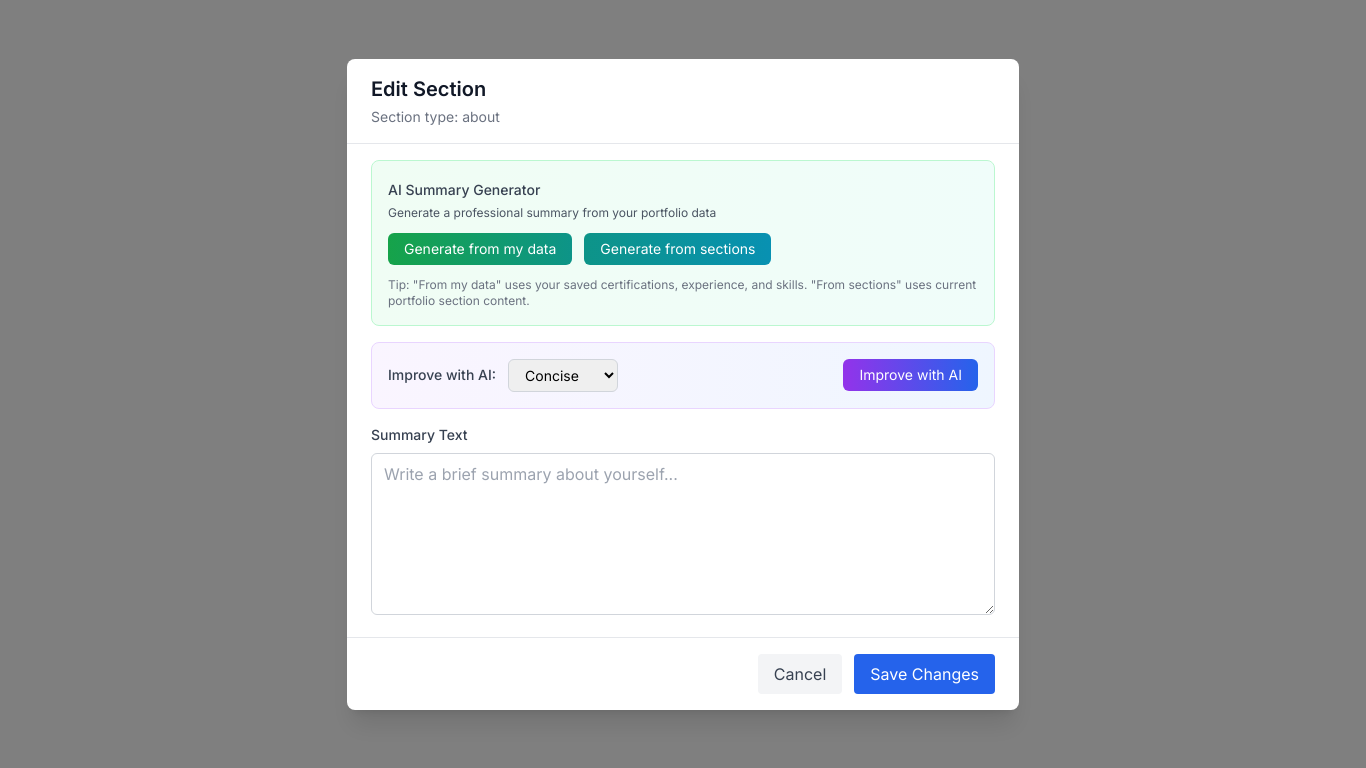
SectionEditor › save and cancel › should show saving state while saving
The width and height of the screenshot is (1366, 768).
Click the button "Save Changes": (925, 674) left=854, top=654, right=995, bottom=694
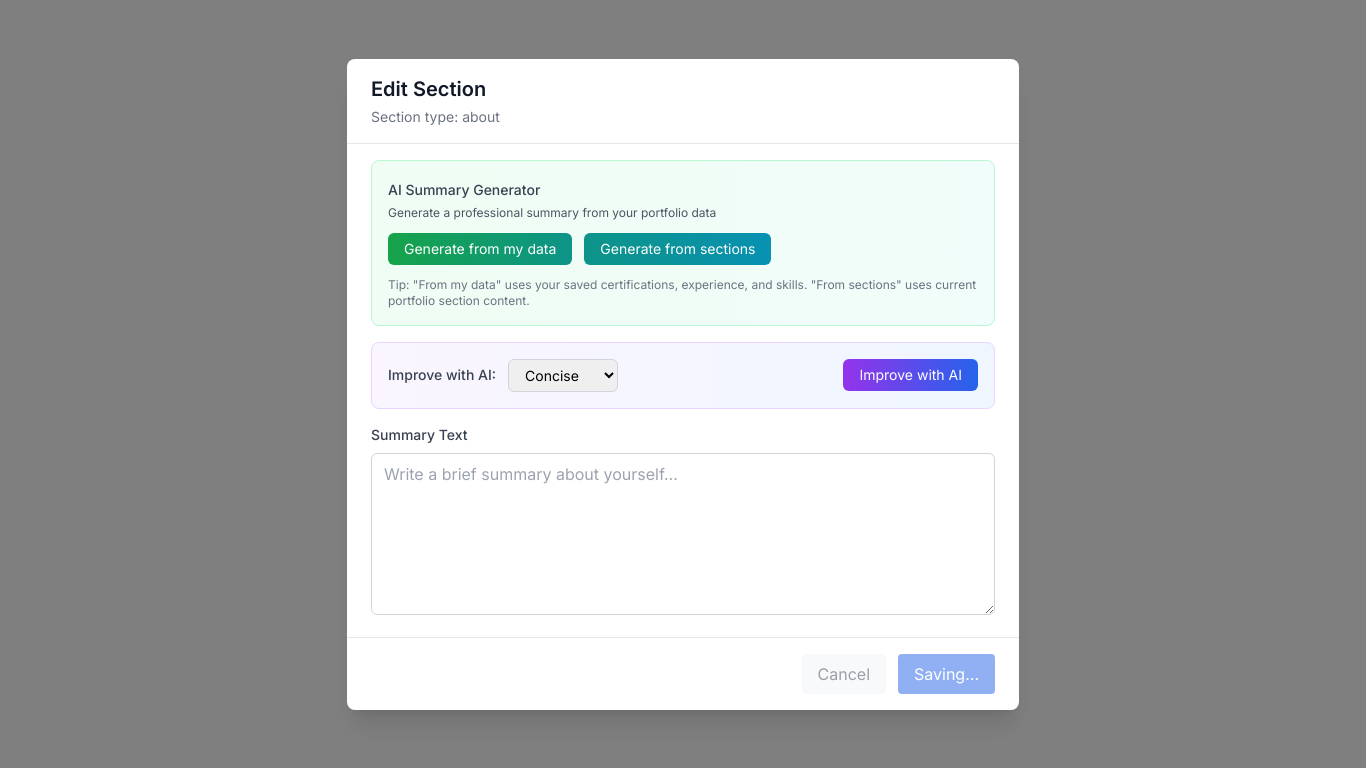
Expected: the button "Saving..." is shown, left=898, top=654, right=995, bottom=694
